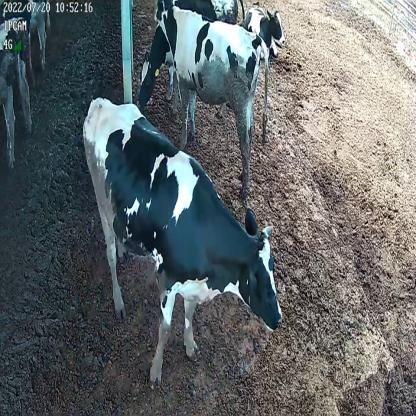cow: (82, 98, 284, 385), (151, 0, 271, 198), (135, 0, 248, 106), (241, 2, 286, 57)
